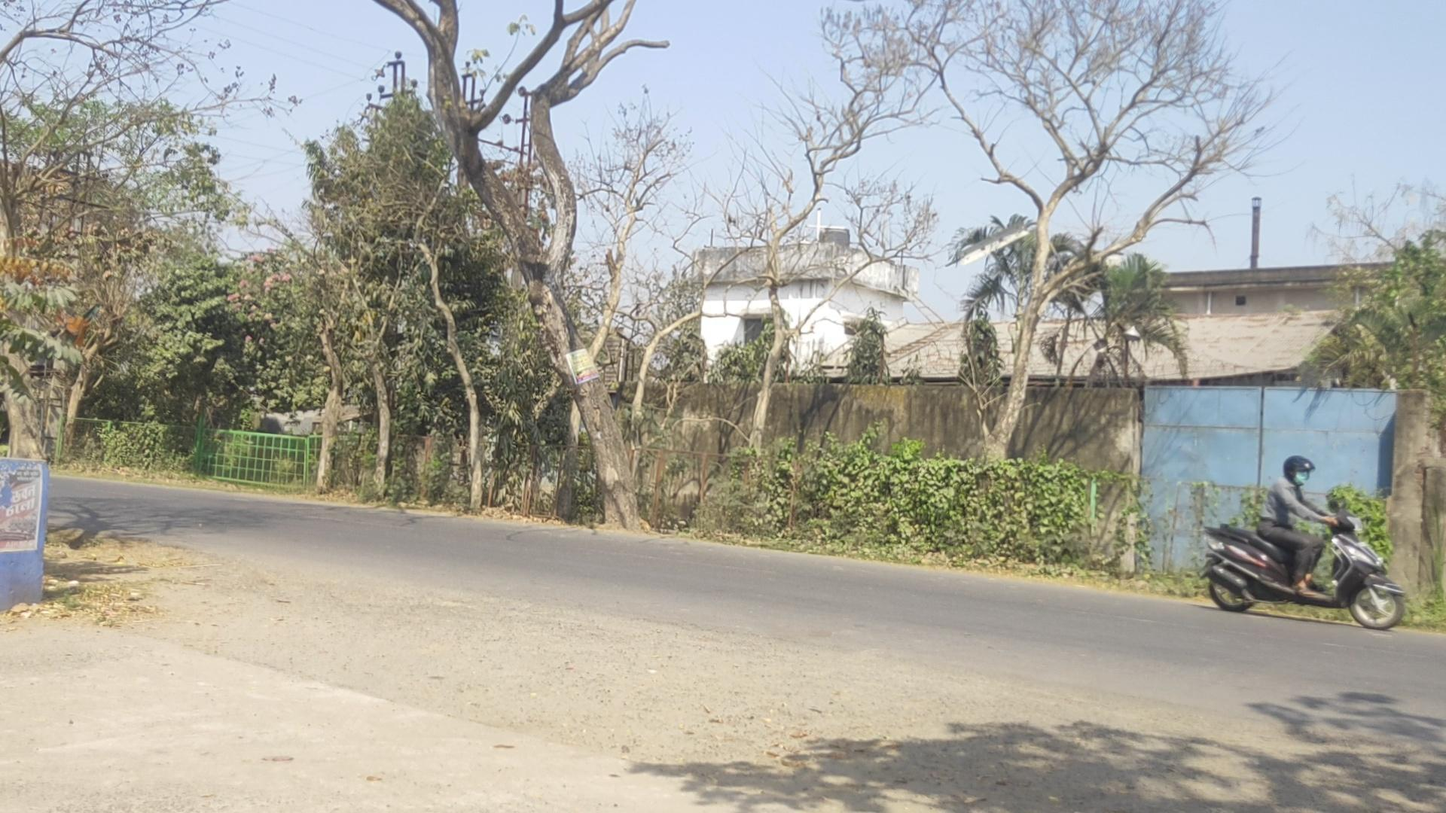bike: (1200, 455, 1405, 630)
